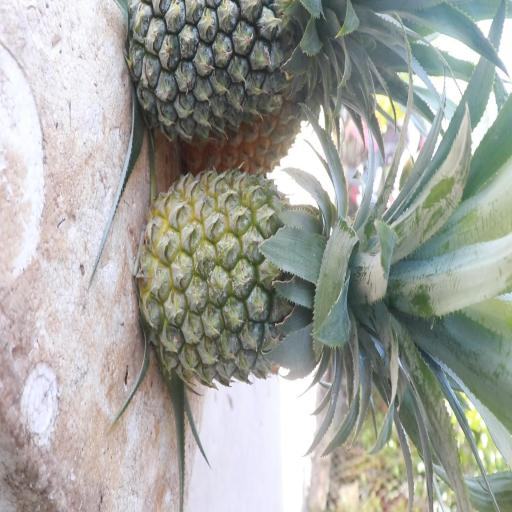------------------------------: (132, 172, 447, 390)
